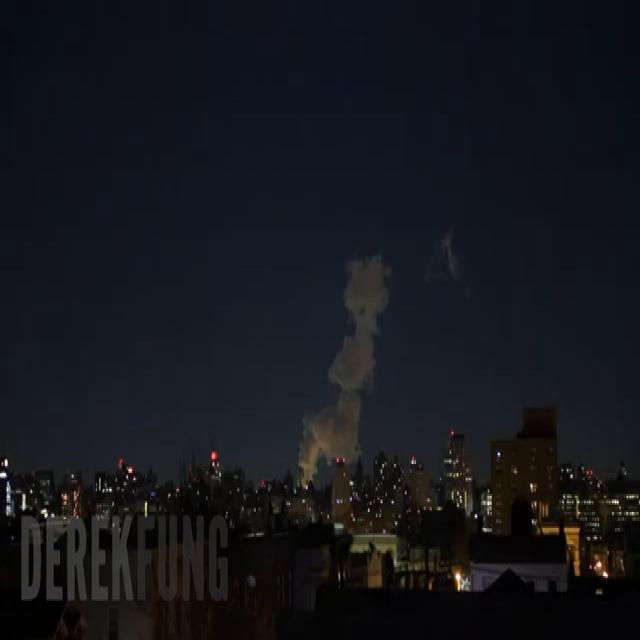smoke: (298, 254, 390, 482)
